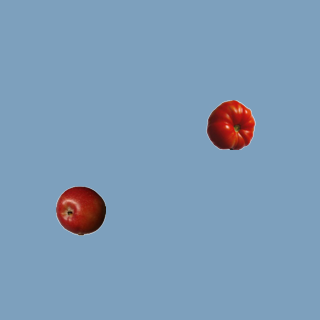Apple Braeburn: (55, 185, 105, 235)
Tomato 3: (205, 99, 255, 149)
